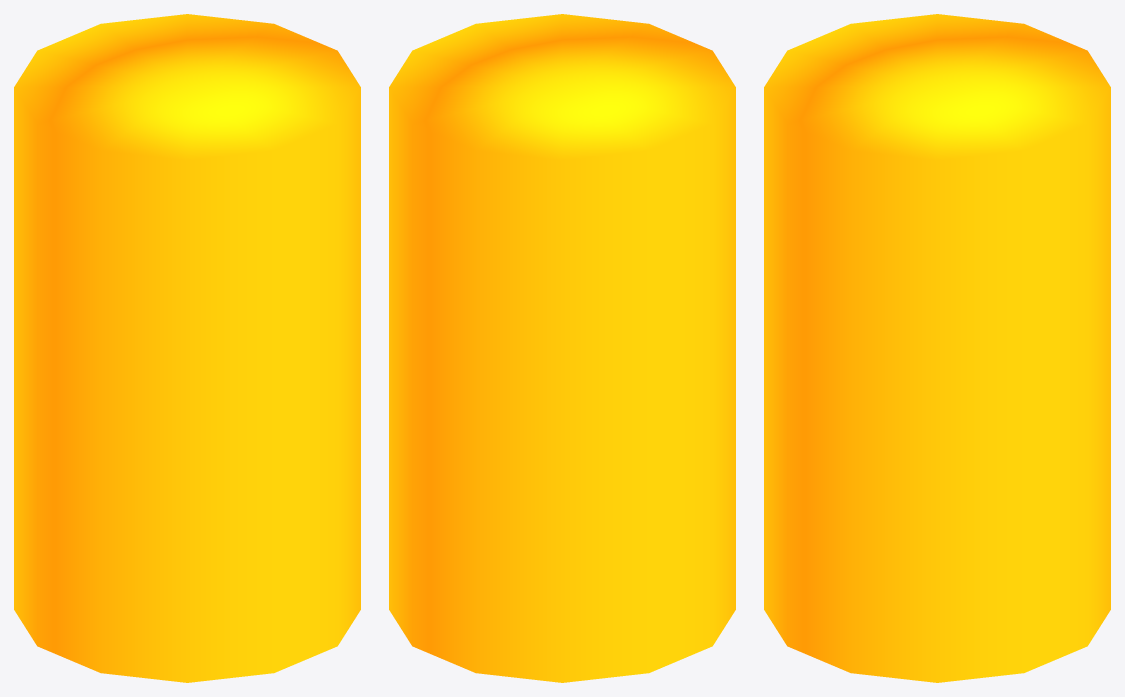
The model's file is Mark_Buoy.glb.
3 renders of one model, left to right at view 1: azimuth 30°, elevation 25°; view 2: azimuth 150°, elevation 25°; view 3: azimuth 270°, elevation 25°, orthographic.
Visible parts, largest first — view 1: body, cap; view 2: body, cap; view 3: body, cap.
Part boxes in pixels (left/top/right/bottom): body: left=14, top=103, right=360, bottom=682; cap: left=14, top=14, right=360, bottom=175; body: left=389, top=103, right=735, bottom=682; cap: left=389, top=14, right=735, bottom=175; body: left=764, top=103, right=1110, bottom=682; cap: left=764, top=14, right=1110, bottom=175.
Size of the model in its own units: 1.24 by 2.06 by 1.24.
